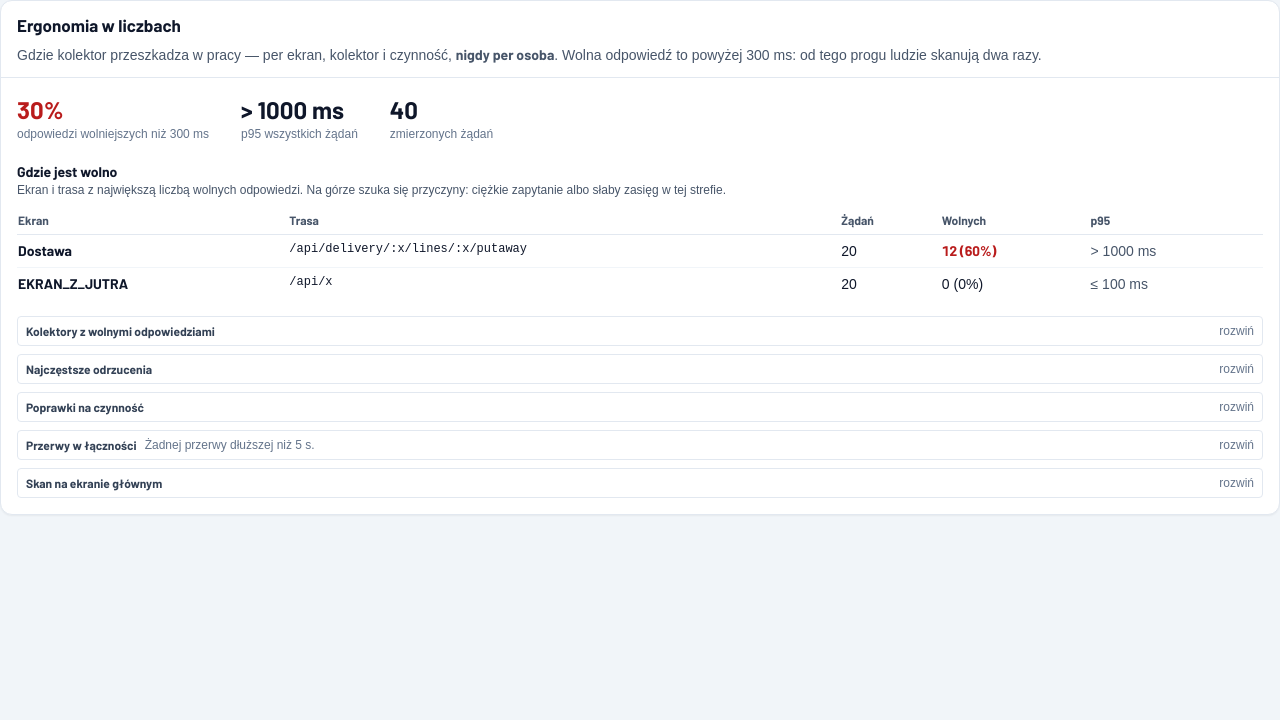
Test: Ergonomia w liczbach › otwarta jest tylko pierwsza sekcja; reszta zwinięta z tytułem na wierzchu
Expected: the heading "Gdzie jest wolno" is shown, x1=17 y1=163 x2=117 y2=180
Expected: the text "EKRAN_Z_JUTRA" is shown, x1=17 y1=268 x2=288 y2=300
Click the button "Najczęstsze odrzucenia rozwiń". click: (89, 369)
box: x1=18 y1=355 x2=1262 y2=383
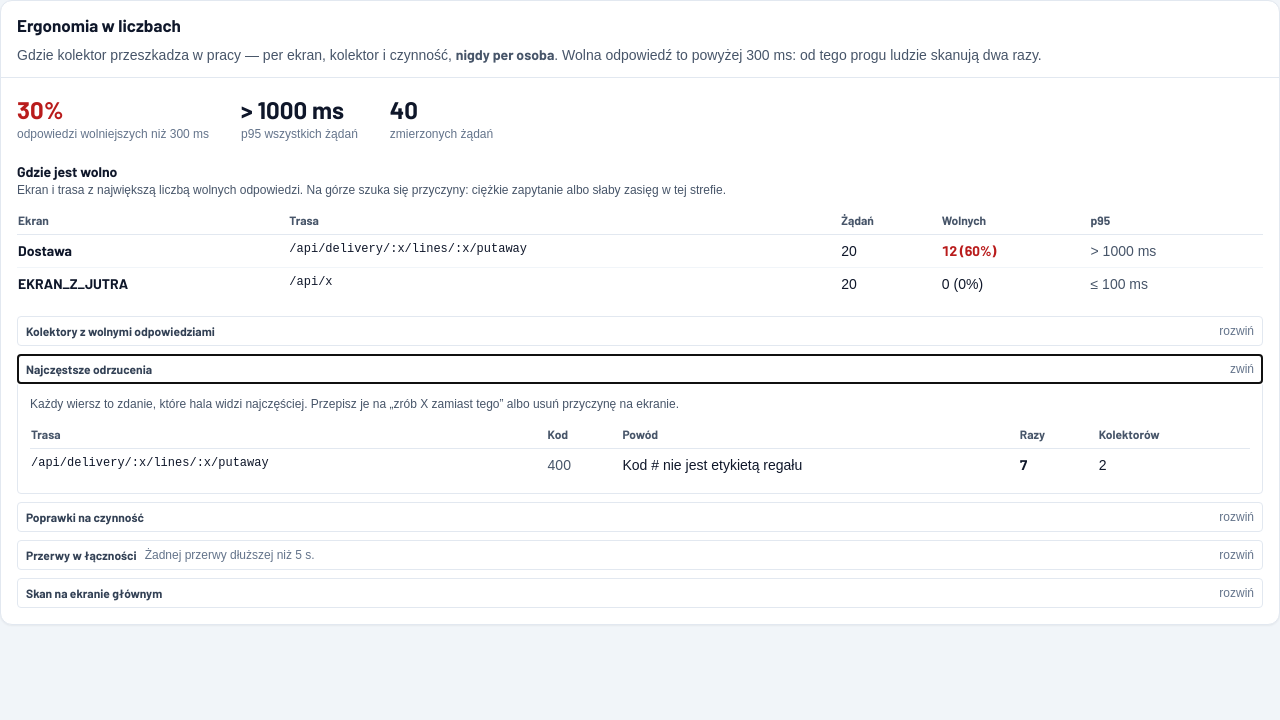
Now the text "Kod # nie jest etykietą regału" is shown, box x1=622 y1=448 x2=1019 y2=481
